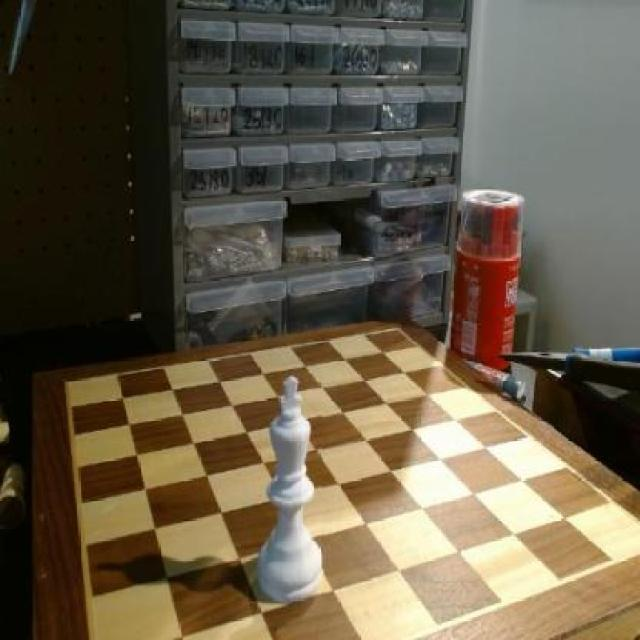white-bishop: (261, 372, 324, 606)
